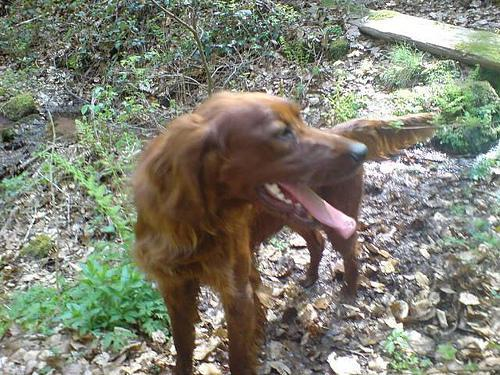Irish_setter: (120, 88, 437, 374)
